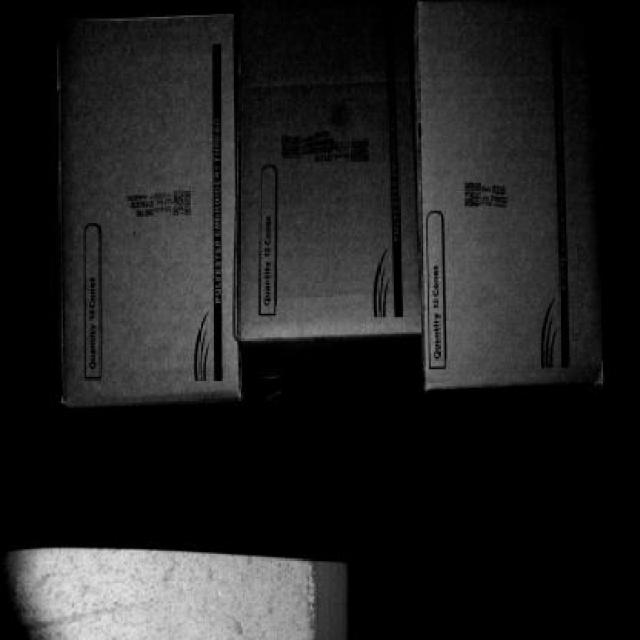cardboxes: (419, 0, 610, 386), (59, 8, 248, 398), (248, 12, 420, 336)
